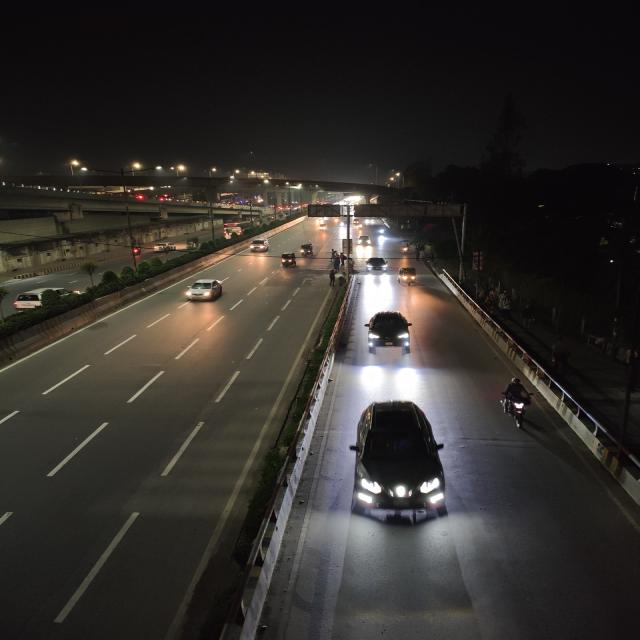bus: (218, 221, 245, 237)
car: (348, 396, 451, 526), (362, 309, 418, 357), (182, 276, 227, 306), (364, 254, 390, 274), (151, 241, 174, 253), (355, 234, 374, 248)
cng: (396, 266, 421, 287), (247, 237, 270, 253), (279, 252, 299, 268), (298, 241, 316, 257), (185, 236, 202, 252), (355, 234, 374, 248)
motorcycle: (496, 376, 536, 431), (130, 245, 143, 257), (402, 242, 412, 257)
pedestrian: (327, 269, 336, 287), (339, 252, 346, 266)
